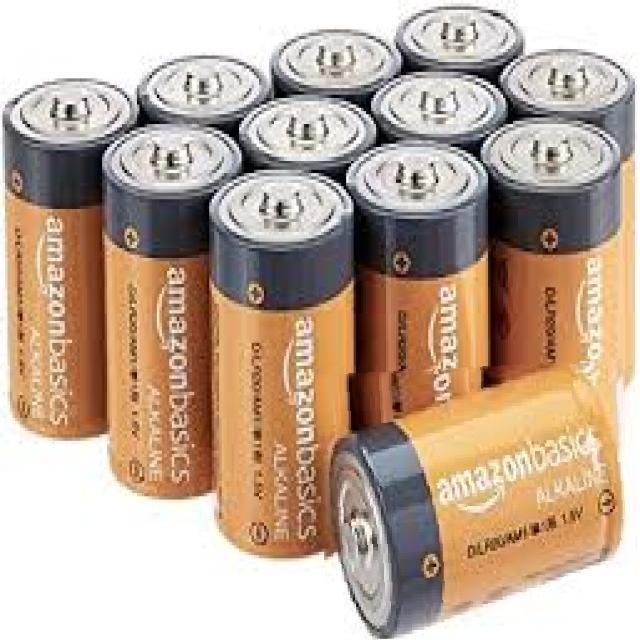Battery: (330, 366, 625, 639), (208, 164, 358, 563), (105, 118, 245, 500), (3, 78, 138, 448), (498, 45, 639, 383), (344, 136, 495, 425), (476, 114, 630, 386), (390, 0, 526, 74), (373, 68, 506, 142), (137, 51, 271, 122), (265, 26, 402, 93), (502, 47, 634, 110)
